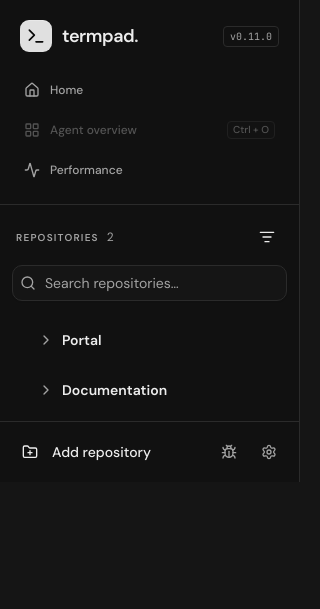
Test case: Sidebar repository search › matches repository names without case or surrounding whitespace and reveals all their worktrees
Type "  PORT  " into the field named "Search repositories and worktrees". click: x=150, y=283
box: [12, 265, 287, 301]
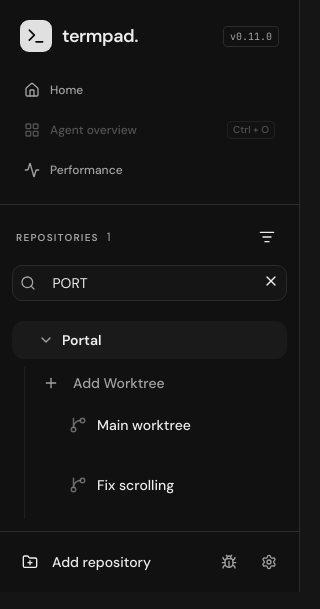
Expected: the text "Main worktree" is shown, [97, 416, 191, 434]
Expected: the text "Fix scrolling" is shown, [97, 476, 174, 494]
Expected: the text "Documentation" is gone
